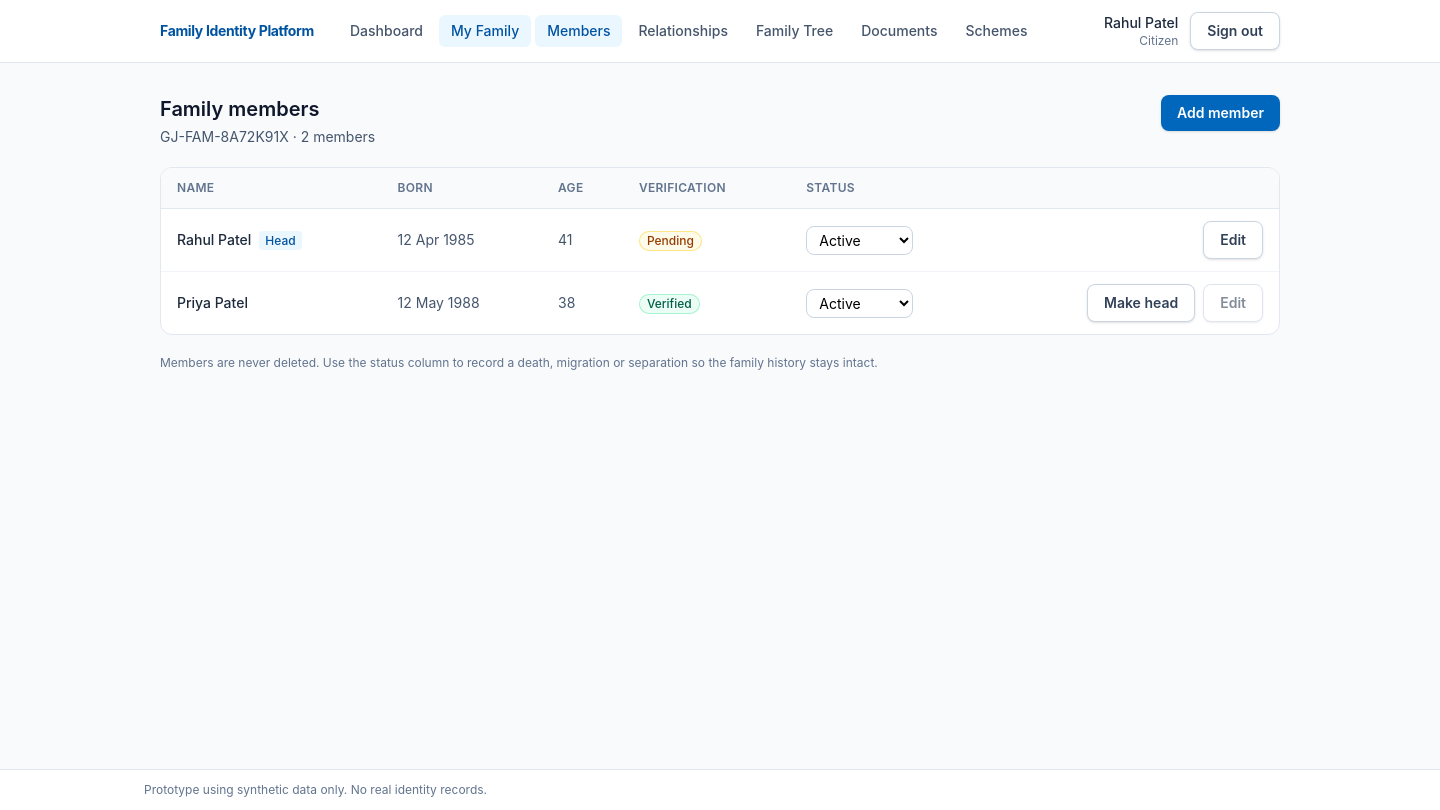
Test: FamilyMembersPage — editing and lifecycle › surfaces the refusal to retire the Family Head
Expected: the text "Priya Patel" is shown, [161,272,382,334]
Select "Deceased" in the dropdown named "status for rahul patel" at (860, 240), box [806,226,913,254]
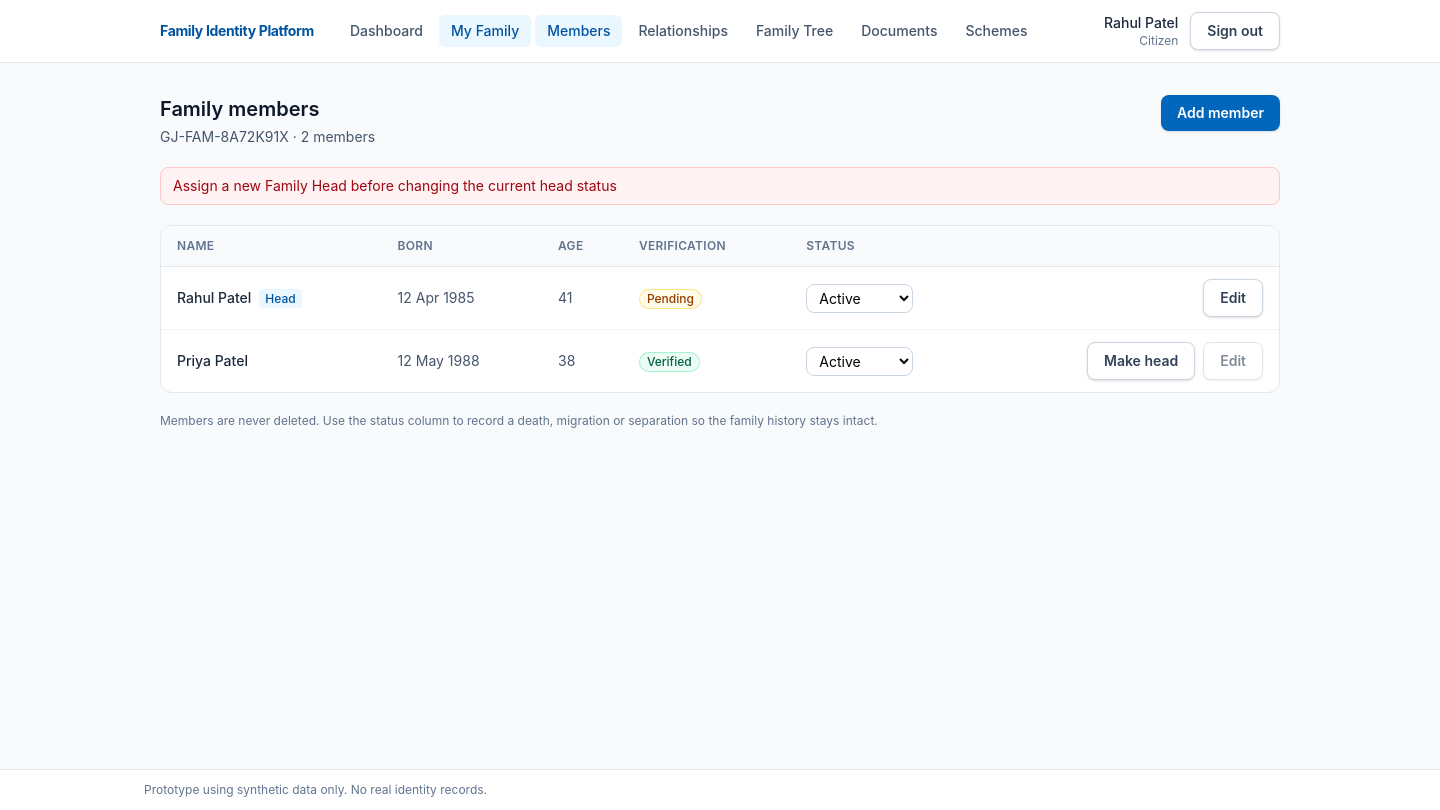
Expected: the message shows "Assign a new Family Head", [173,177,617,194]
